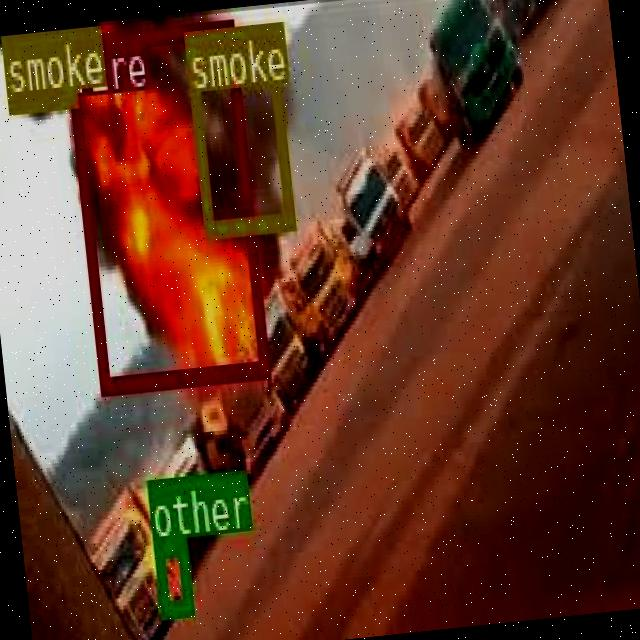fire: (61, 16, 268, 392)
smoke: (181, 19, 292, 234), (0, 24, 75, 110)
